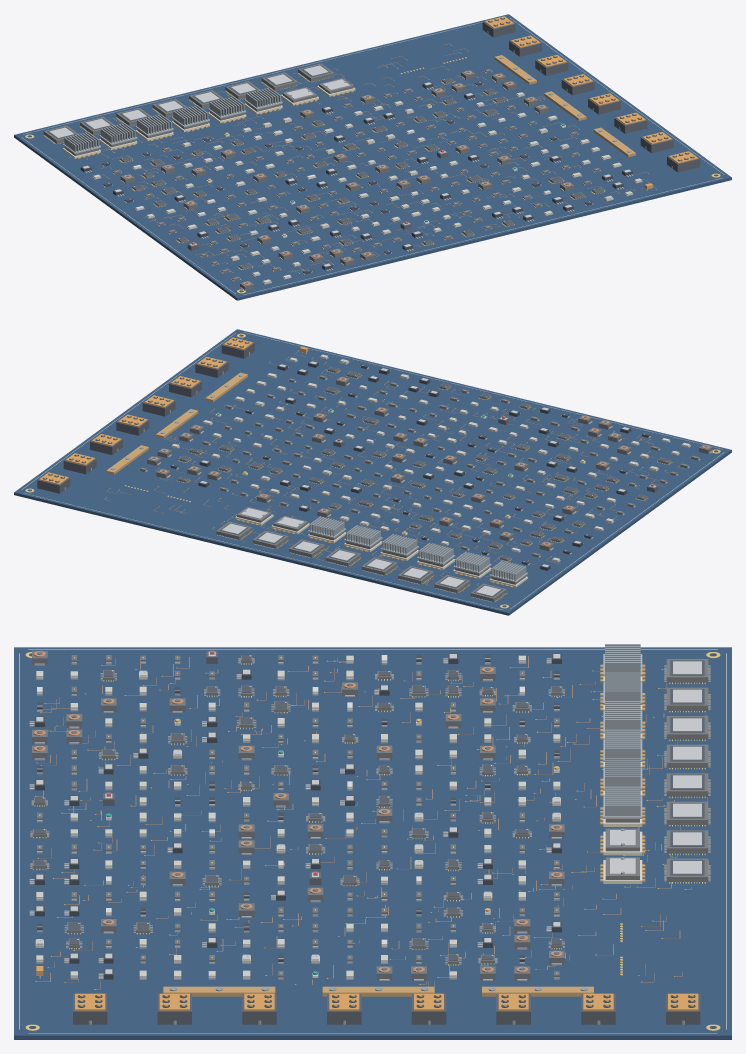
Rendered from 417_L126_AssembledReference.glb.
3 views of the same model, one above another, from view 1: azimuth 30°, elevation 25°; view 2: azimuth 150°, elevation 25°; view 3: azimuth 270°, elevation 25° (orthographic). The views are drawn at different scales.
Parts seen in each view (by area): view 1: 417_L126_AssembledReference_pcb, 417_L126_AssembledReference_graphite, 417_L126_AssembledReference_ferrite, 417_L126_AssembledReference_steel, 417_L126_AssembledReference_solder, 417_L126_AssembledReference_black, 417_L126_AssembledReference_ceramic, 417_L126_AssembledReference_silver, 417_L126_AssembledReference_connector, 417_L126_AssembledReference_resistor, 417_L126_AssembledReference_chip, 417_L126_AssembledReference_copper (+9 smaller); view 2: 417_L126_AssembledReference_pcb, 417_L126_AssembledReference_graphite, 417_L126_AssembledReference_ferrite, 417_L126_AssembledReference_steel, 417_L126_AssembledReference_solder, 417_L126_AssembledReference_black, 417_L126_AssembledReference_ceramic, 417_L126_AssembledReference_silver, 417_L126_AssembledReference_connector, 417_L126_AssembledReference_resistor, 417_L126_AssembledReference_chip, 417_L126_AssembledReference_copper (+8 smaller); view 3: 417_L126_AssembledReference_pcb, 417_L126_AssembledReference_graphite, 417_L126_AssembledReference_solder, 417_L126_AssembledReference_steel, 417_L126_AssembledReference_ferrite, 417_L126_AssembledReference_silver, 417_L126_AssembledReference_chip, 417_L126_AssembledReference_black, 417_L126_AssembledReference_busbar, 417_L126_AssembledReference_connector, 417_L126_AssembledReference_ceramic, 417_L126_AssembledReference_copper (+9 smaller).
Boxes of the visible parts, left/top/right/bottom form: 417_L126_AssembledReference_pcb: left=14, top=14, right=731, bottom=300; 417_L126_AssembledReference_graphite: left=43, top=63, right=603, bottom=269; 417_L126_AssembledReference_ferrite: left=120, top=70, right=574, bottom=290; 417_L126_AssembledReference_steel: left=64, top=31, right=672, bottom=168; 417_L126_AssembledReference_solder: left=58, top=71, right=642, bottom=290; 417_L126_AssembledReference_black: left=27, top=17, right=718, bottom=292; 417_L126_AssembledReference_ceramic: left=93, top=92, right=641, bottom=283; 417_L126_AssembledReference_silver: left=49, top=65, right=630, bottom=271; 417_L126_AssembledReference_connector: left=482, top=16, right=700, bottom=172; 417_L126_AssembledReference_resistor: left=112, top=69, right=600, bottom=280; 417_L126_AssembledReference_chip: left=47, top=64, right=602, bottom=267; 417_L126_AssembledReference_copper: left=56, top=43, right=655, bottom=272; 417_L126_AssembledReference_pcb: left=14, top=329, right=731, bottom=615; 417_L126_AssembledReference_graphite: left=177, top=366, right=671, bottom=601; 417_L126_AssembledReference_ferrite: left=147, top=376, right=713, bottom=550; 417_L126_AssembledReference_steel: left=64, top=352, right=526, bottom=580; 417_L126_AssembledReference_solder: left=139, top=357, right=712, bottom=602; 417_L126_AssembledReference_black: left=27, top=334, right=718, bottom=607; 417_L126_AssembledReference_ceramic: left=171, top=354, right=690, bottom=562; 417_L126_AssembledReference_silver: left=172, top=359, right=657, bottom=595; 417_L126_AssembledReference_connector: left=37, top=337, right=254, bottom=493; 417_L126_AssembledReference_resistor: left=140, top=375, right=699, bottom=557; 417_L126_AssembledReference_chip: left=179, top=367, right=669, bottom=597; 417_L126_AssembledReference_copper: left=104, top=351, right=686, bottom=593; 417_L126_AssembledReference_pcb: left=14, top=647, right=731, bottom=1039; 417_L126_AssembledReference_graphite: left=32, top=655, right=708, bottom=964; 417_L126_AssembledReference_solder: left=30, top=658, right=710, bottom=980; 417_L126_AssembledReference_steel: left=88, top=644, right=684, bottom=1024; 417_L126_AssembledReference_ferrite: left=32, top=651, right=564, bottom=980; 417_L126_AssembledReference_silver: left=36, top=651, right=701, bottom=973; 417_L126_AssembledReference_chip: left=34, top=655, right=704, bottom=960; 417_L126_AssembledReference_black: left=29, top=653, right=716, bottom=1028; 417_L126_AssembledReference_busbar: left=79, top=664, right=693, bottom=1006; 417_L126_AssembledReference_connector: left=73, top=994, right=700, bottom=1024; 417_L126_AssembledReference_ceramic: left=36, top=655, right=560, bottom=977; 417_L126_AssembledReference_copper: left=36, top=656, right=708, bottom=989.
Bounding box in the file's own units: 0.64 × 0.0189 × 0.5.
